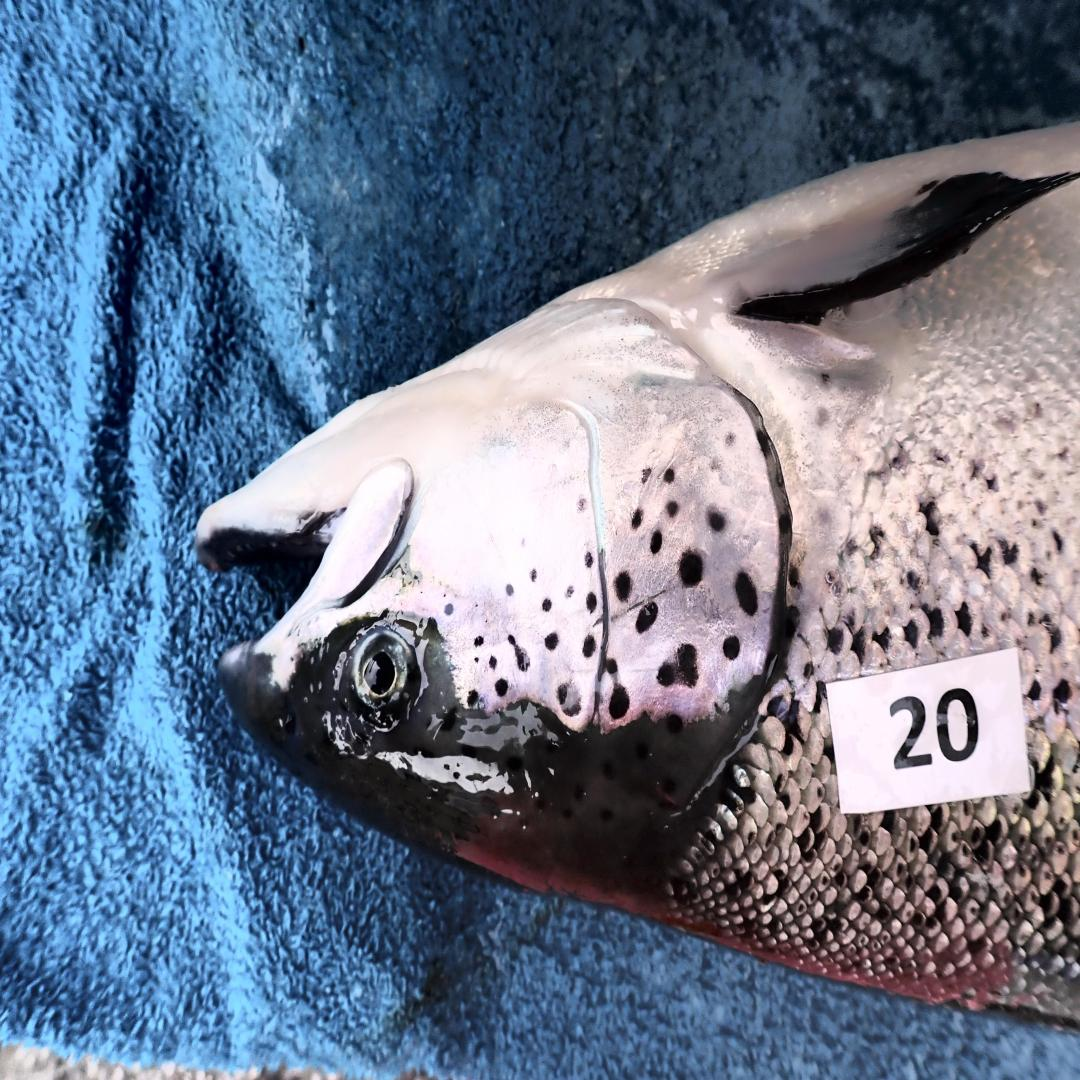spot: (658, 644, 698, 686), (734, 571, 759, 616), (679, 551, 702, 588), (557, 681, 580, 717), (610, 683, 631, 720), (508, 636, 529, 672), (635, 602, 658, 633), (614, 571, 631, 602), (724, 636, 740, 661), (709, 512, 726, 532), (582, 636, 597, 658), (650, 532, 662, 554), (544, 633, 559, 650), (631, 509, 643, 529), (496, 678, 508, 698), (707, 456, 721, 472), (605, 658, 618, 675), (586, 593, 597, 613), (667, 501, 679, 518), (664, 467, 675, 484), (468, 689, 479, 706), (641, 467, 652, 484), (584, 551, 593, 568), (726, 433, 736, 447), (489, 655, 498, 669), (565, 585, 574, 599), (578, 498, 586, 512), (475, 636, 485, 647), (542, 599, 551, 610), (445, 605, 454, 616), (529, 568, 536, 582), (506, 585, 513, 596), (474, 658, 478, 663)
